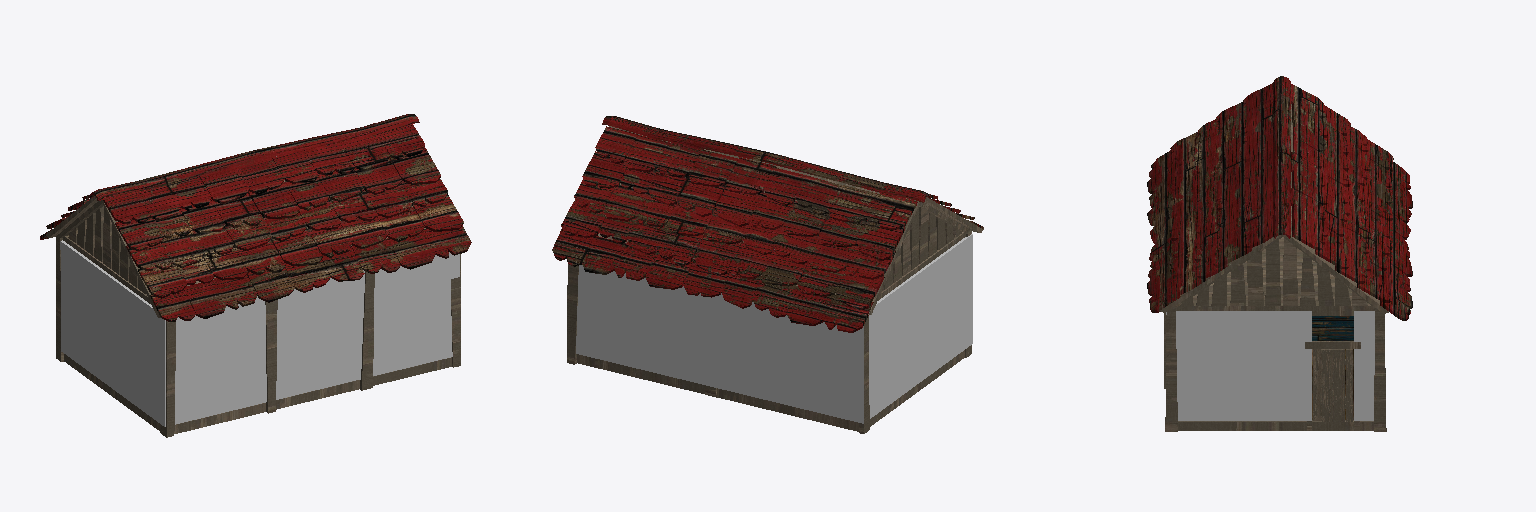
3 renders of one model, left to right at view 1: azimuth 30°, elevation 25°; view 2: azimuth 150°, elevation 25°; view 3: azimuth 270°, elevation 25°, orthographic.
Visible parts, largest first — view 1: Roof_Cube.033, cBox_House.004_Cube.100, WoodArmature_Cube.040, cBox_House.001_Cube.097; view 2: Roof_Cube.033, cBox_House_Cube.101, cBox_House.001_Cube.097, WoodArmature_Cube.040, cBox_House.004_Cube.100; view 3: Roof_Cube.033, WoodArmature_Cube.040, cBox_House.002_Cube.098, Door_Cube.069, cBox_House.003_Cube.099, Wall_Cube.034.
Boxes of the visible parts, <box> form: Roof_Cube.033: <box>40,114,471,321</box>; cBox_House.004_Cube.100: <box>160,252,459,426</box>; WoodArmature_Cube.040: <box>46,156,460,437</box>; cBox_House.001_Cube.097: <box>60,240,159,422</box>; Roof_Cube.033: <box>552,116,983,332</box>; cBox_House_Cube.101: <box>576,265,863,423</box>; cBox_House.001_Cube.097: <box>869,235,970,418</box>; WoodArmature_Cube.040: <box>567,126,983,433</box>; cBox_House.004_Cube.100: <box>968,234,972,346</box>; Roof_Cube.033: <box>1147,76,1412,320</box>; WoodArmature_Cube.040: <box>1160,104,1388,431</box>; cBox_House.002_Cube.098: <box>1176,311,1311,420</box>; Door_Cube.069: <box>1313,349,1352,421</box>; cBox_House.003_Cube.099: <box>1354,311,1374,420</box>; Wall_Cube.034: <box>1312,316,1353,340</box>.
Bounding box in the file's own units: 18.77 × 11.61 × 13.5.
Materials: 5 (4 with a texture image).